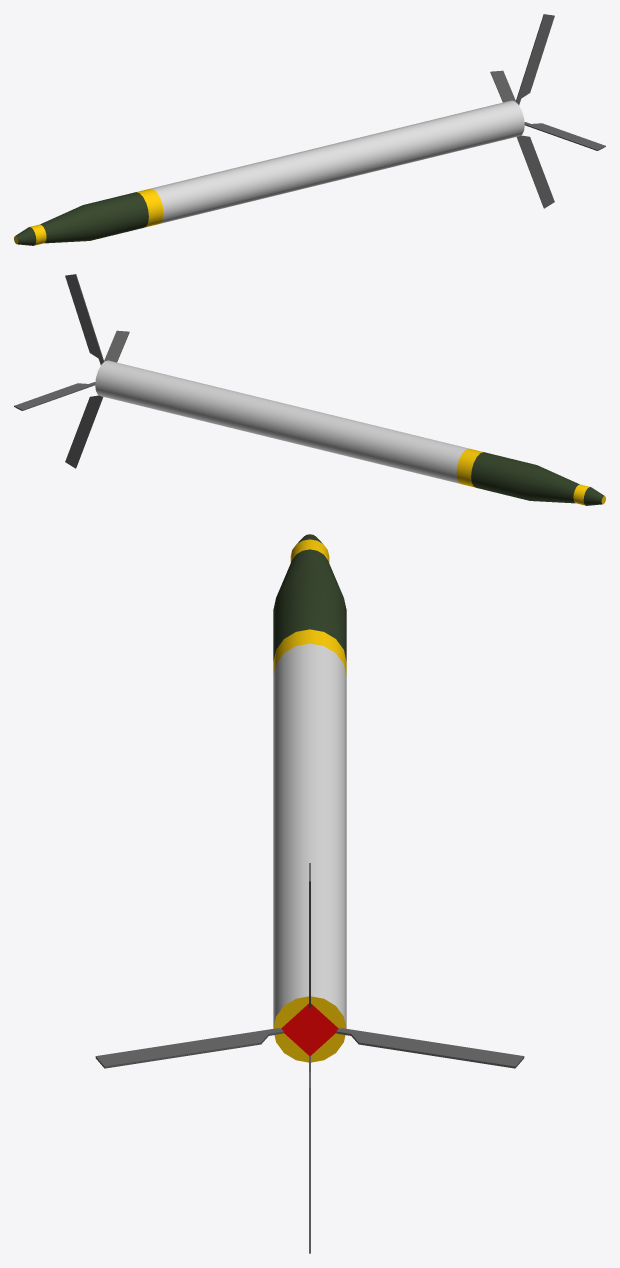
Rendered from Zuni Rocket.glb.
3 renders of one model, top to bottom at view 1: azimuth 30°, elevation 25°; view 2: azimuth 150°, elevation 25°; view 3: azimuth 270°, elevation 25°, orthographic. The views are drawn at different scales.
Parts seen in each view (by area): view 1: Body; view 2: Body; view 3: Body.
Part boxes in pixels (box(x1,y1,x2,y2)): Body: box(14, 14, 605, 245); Body: box(14, 274, 605, 505); Body: box(95, 534, 524, 1253).
Size of the model in its own units: 2.15 by 0.7406 by 0.7406.
Materials: 1 (1 with a texture image).
